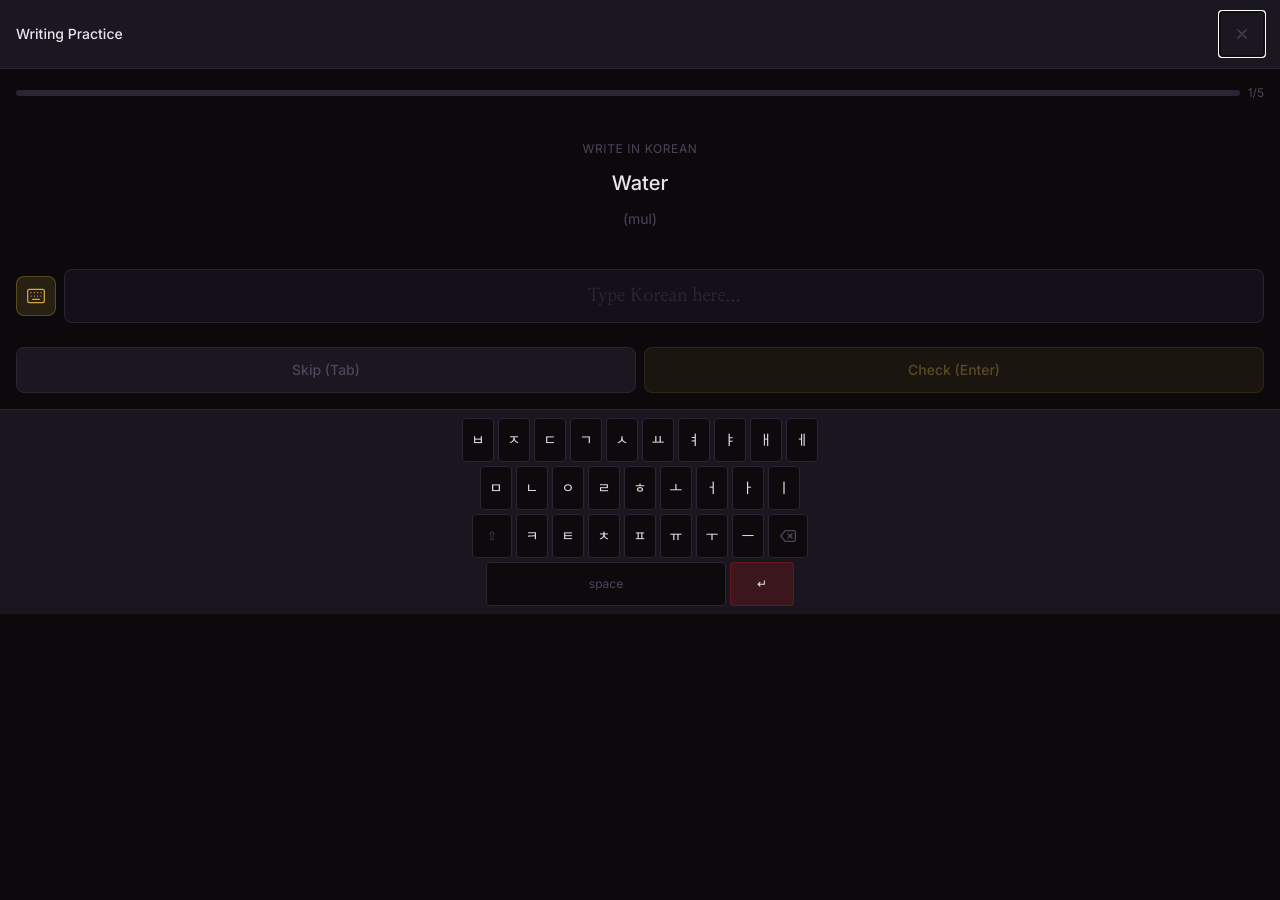
Scenario: WritingMode › answer checking › shows correct answer after wrong submission
The image size is (1280, 900).
In the field with placeholder "Type Korean here...": x=664, y=296 [64, 269, 1264, 323], type "완전히다른답"
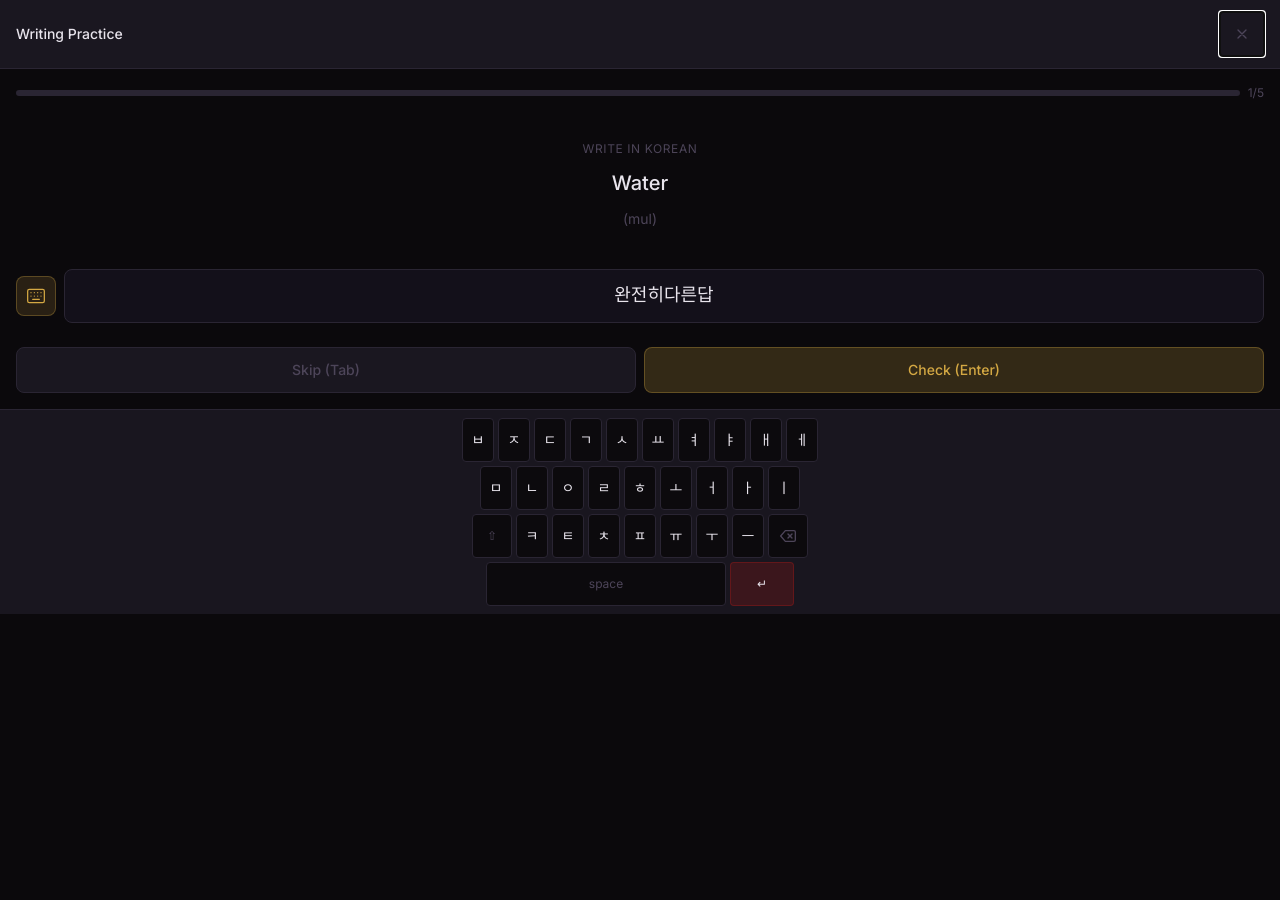
Click the button "Check (Enter)": x=954, y=370 [644, 347, 1264, 393]
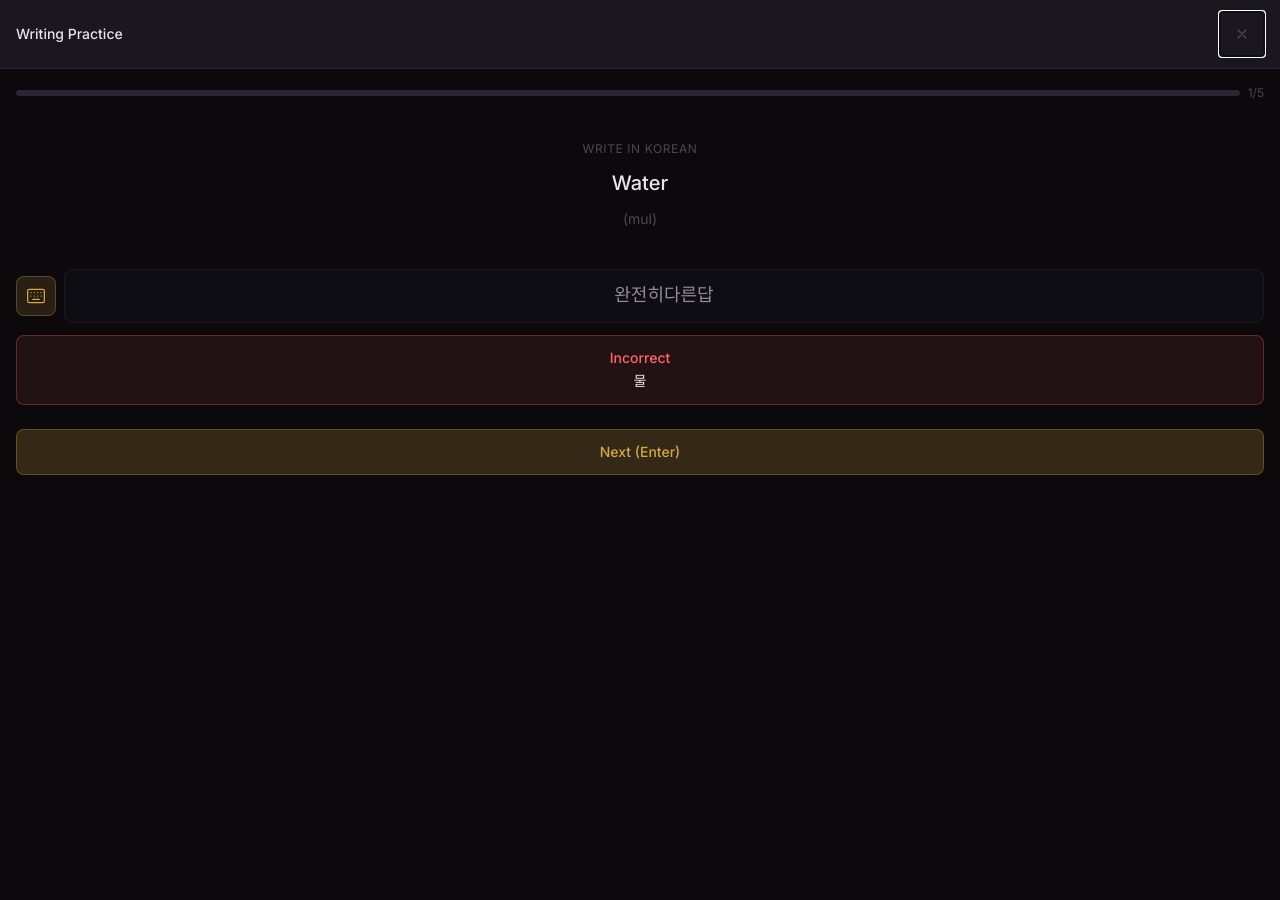
Now the text "물" is shown, box [634, 375, 646, 389]
